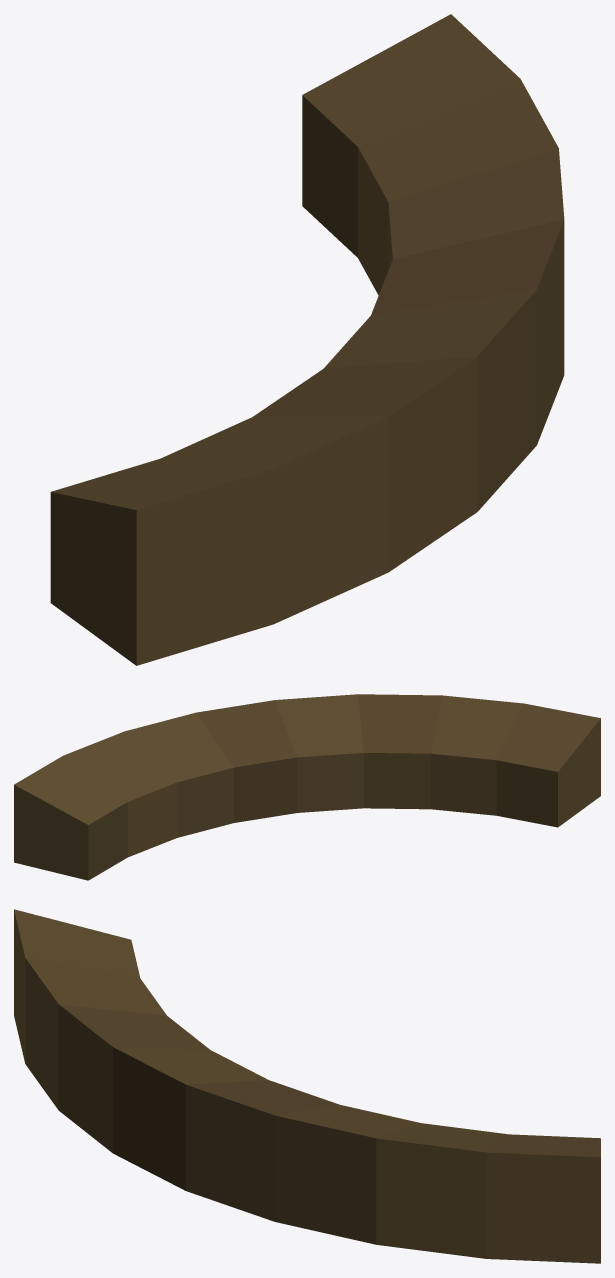
File: W11_River_Bank_Outer90.fbx
The picture shows the model from 3 angles, top to bottom: view 1: azimuth 30°, elevation 25°; view 2: azimuth 150°, elevation 25°; view 3: azimuth 270°, elevation 25°; orthographic projection. The views are drawn at different scales.
Visible parts, largest first — view 1: W11_River_Bank_Outer90; view 2: W11_River_Bank_Outer90; view 3: W11_River_Bank_Outer90.
Part boxes in pixels (bbox=[...]): W11_River_Bank_Outer90: bbox=[50, 14, 564, 665]; W11_River_Bank_Outer90: bbox=[14, 694, 600, 880]; W11_River_Bank_Outer90: bbox=[14, 909, 600, 1263].
Size of the model in its own units: 3.75 by 0.75 by 3.75.
1 material, 1 textured.
